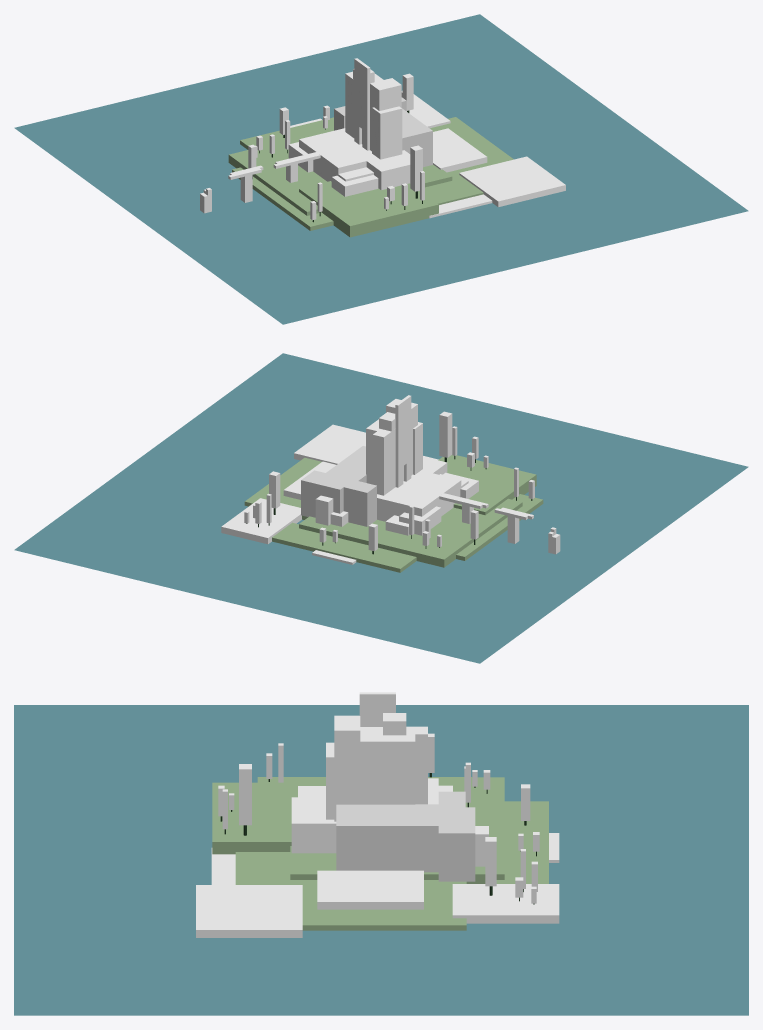
Rendered from world.glb.
3 renders of one model, top to bottom at view 1: azimuth 30°, elevation 25°; view 2: azimuth 150°, elevation 25°; view 3: azimuth 270°, elevation 25°, orthographic. The views are drawn at different scales.
Visible parts, largest first — view 1: Plane.001, Cube.002, Cube.010, Cube.009, Cube, Cube.003, Cube.019, Cube.007, Cube.023, Cube.014, Cube.022, Cube.001 (+7 smaller); view 2: Plane.001, Cube, Cube.014, Cube.010, Cube.008, Cube.002, Cube.019, Cube.005, Cube.009, Cube.022, Cube.003, Cube.001 (+4 smaller); view 3: Plane.001, Cube.014, Cube.019, Cube.003, Cube.009, Cube.002, Cube.007, Cube, Cube.005, Cube.008, Cube.010, Cube.022 (+5 smaller).
Boxes of the visible parts, bbox=[...] form: Plane.001: bbox=[14, 14, 748, 324]; Cube.002: bbox=[299, 181, 438, 237]; Cube.010: bbox=[299, 128, 410, 190]; Cube.009: bbox=[459, 156, 565, 207]; Cube: bbox=[228, 129, 452, 215]; Cube.003: bbox=[425, 117, 513, 204]; Cube.019: bbox=[345, 71, 401, 151]; Cube.007: bbox=[433, 128, 487, 172]; Cube.023: bbox=[372, 106, 402, 159]; Cube.014: bbox=[334, 97, 432, 167]; Cube.022: bbox=[354, 58, 370, 150]; Cube.001: bbox=[232, 167, 333, 230]; Plane.001: bbox=[14, 353, 748, 663]; Cube: bbox=[299, 498, 522, 567]; Cube.014: bbox=[301, 446, 376, 526]; Cube.010: bbox=[377, 456, 468, 521]; Cube.008: bbox=[272, 522, 416, 572]; Cube.002: bbox=[438, 455, 536, 515]; Cube.019: bbox=[366, 399, 417, 495]; Cube.005: bbox=[221, 498, 301, 544]; Cube.009: bbox=[294, 424, 365, 464]; Cube.022: bbox=[395, 395, 411, 487]; Cube.003: bbox=[244, 457, 321, 519]; Cube.001: bbox=[456, 494, 543, 560]; Plane.001: bbox=[14, 705, 748, 1015]; Cube.014: bbox=[336, 791, 475, 881]; Cube.019: bbox=[334, 715, 427, 821]; Cube.003: bbox=[235, 852, 466, 930]; Cube.009: bbox=[196, 885, 302, 937]; Cube.002: bbox=[212, 782, 325, 854]; Cube.007: bbox=[317, 870, 423, 909]; Cube: bbox=[290, 777, 504, 883]; Cube.005: bbox=[452, 884, 559, 923]; Cube.008: bbox=[496, 801, 548, 883]; Cube.010: bbox=[291, 778, 438, 853]; Cube.022: bbox=[359, 692, 395, 726].
Bounding box in the file's own units: 110 × 26.09 × 110.
